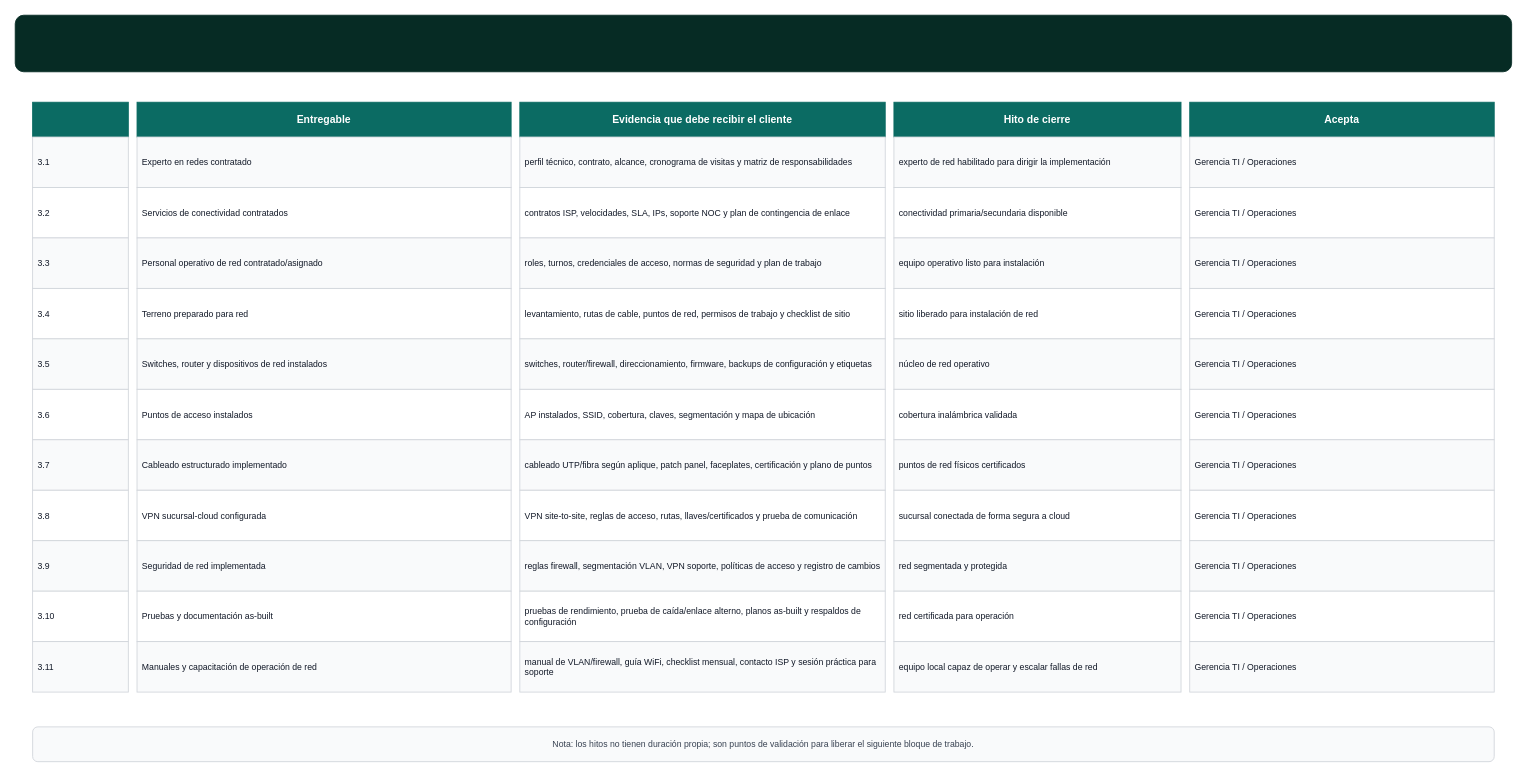
Image size: 1527x777. Some labels were removed from this diagram. The centre of each missing label's shape, as x and y in pixels:
3.0 REDES — Hitos, evidencias y aceptación: point (763, 43)
WBS: point (80, 119)
